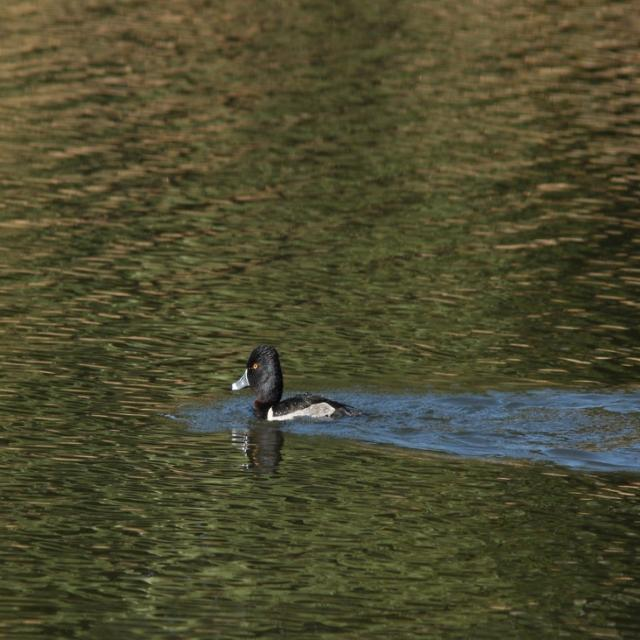bird: (223, 345, 377, 427)
